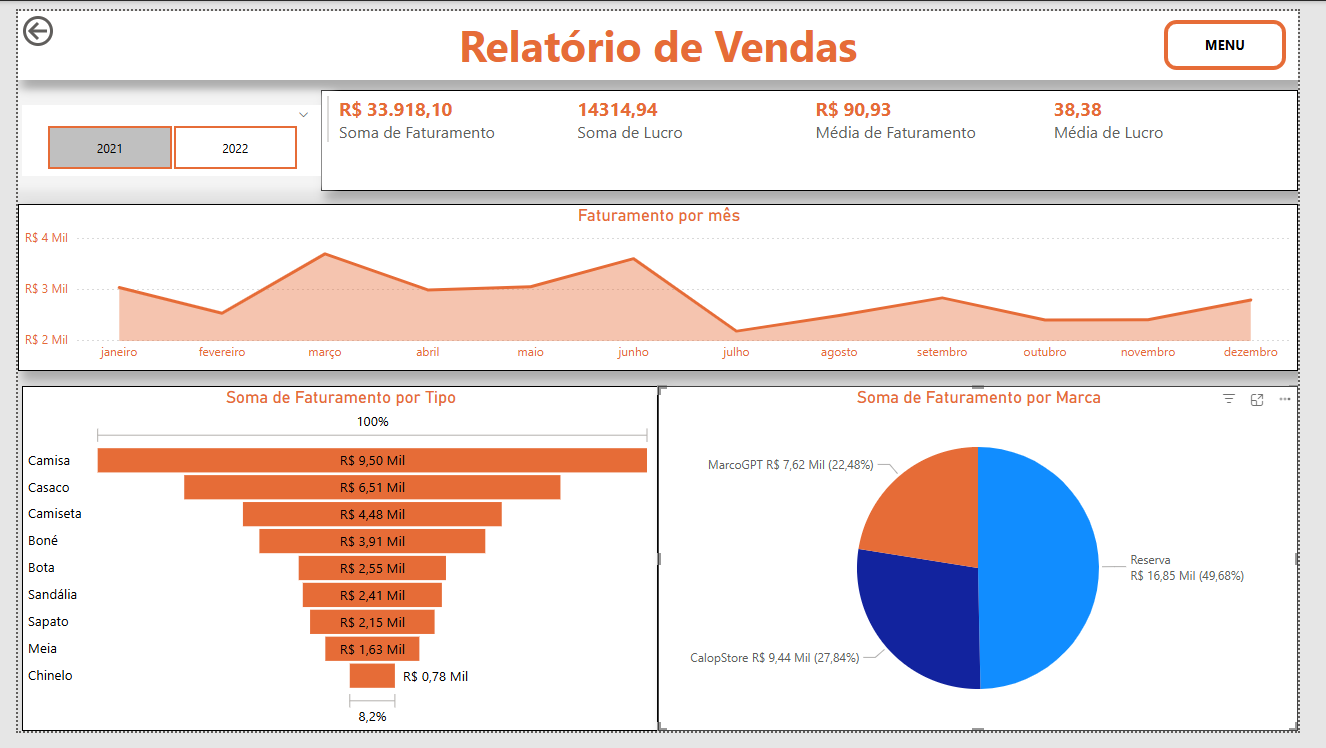

The page's visual inventory and layout, read from the dashboard file:
{"tool":"powerbi","page":{"name":"VENDA 1","canvas":[1280,720],"ordinal":2},"visuals":[{"type":"textbox","box":[0,0,1280,68.8],"z":0},{"type":"actionButton","box":[0,0,100,40],"z":1000},{"type":"multiRowCard","fields":{"Values":["Vendas.Faturamento","Vendas.Lucro","Vendas.Faturamento","Vendas.Lucro"]},"box":[302.5,78.8,977.5,101.2],"z":2000},{"type":"areaChart","title":"Faturamento por mês","fields":{"Category":["Vendas.Dia.Variation.Hierarquia de datas.Mês"],"Y":["Vendas.Faturamento"]},"box":[0,192.5,1280,167.5],"z":3000},{"type":"funnel","fields":{"Category":["Vendas.Tipo"],"Y":["Vendas.Faturamento"]},"box":[3.8,375,636.2,345],"z":4000},{"type":"pieChart","fields":{"Category":["Vendas.Marca"],"Y":["Vendas.Faturamento"]},"box":[640,375,640,345],"z":5000},{"type":"slicer","fields":{"Values":["Vendas.Dia.Variation.Hierarquia de datas.Ano"]},"box":[3.8,93.8,298.8,71.2],"z":6000},{"type":"shape","box":[1146.1,9.3,122.3,50.1],"z":7000}]}

Visuals, with their boxes in screenshot pixels (x1, y1, x2, y2), scaled from the page's 1280x720 canvas onto the 1326x748 screenshot:
textbox: x1=0 y1=0 x2=1325 y2=71
actionButton: x1=0 y1=0 x2=104 y2=42
multiRowCard - Vendas.Faturamento x Vendas.Lucro: x1=313 y1=82 x2=1325 y2=187
"Faturamento por mês" areaChart: x1=0 y1=200 x2=1325 y2=374
funnel - Vendas.Tipo x Vendas.Faturamento: x1=4 y1=390 x2=663 y2=747
pieChart - Vendas.Marca x Vendas.Faturamento: x1=663 y1=390 x2=1325 y2=747
slicer - Vendas.Dia.Variation.Hierarquia de datas.Ano: x1=4 y1=97 x2=313 y2=171
shape: x1=1187 y1=10 x2=1314 y2=62
